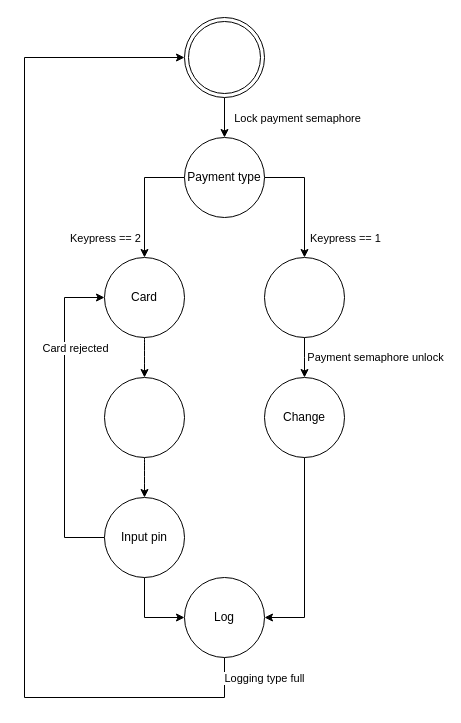
The diagram is 461 pixels wide and 723 high, and some of its shapes have lost their labels. Here are the shapes that lost their labels. From the top down, the centre of each, then its label:
At point (224, 57): "Start".
At point (304, 297): "Cash".
At point (144, 417): "Input card number".
